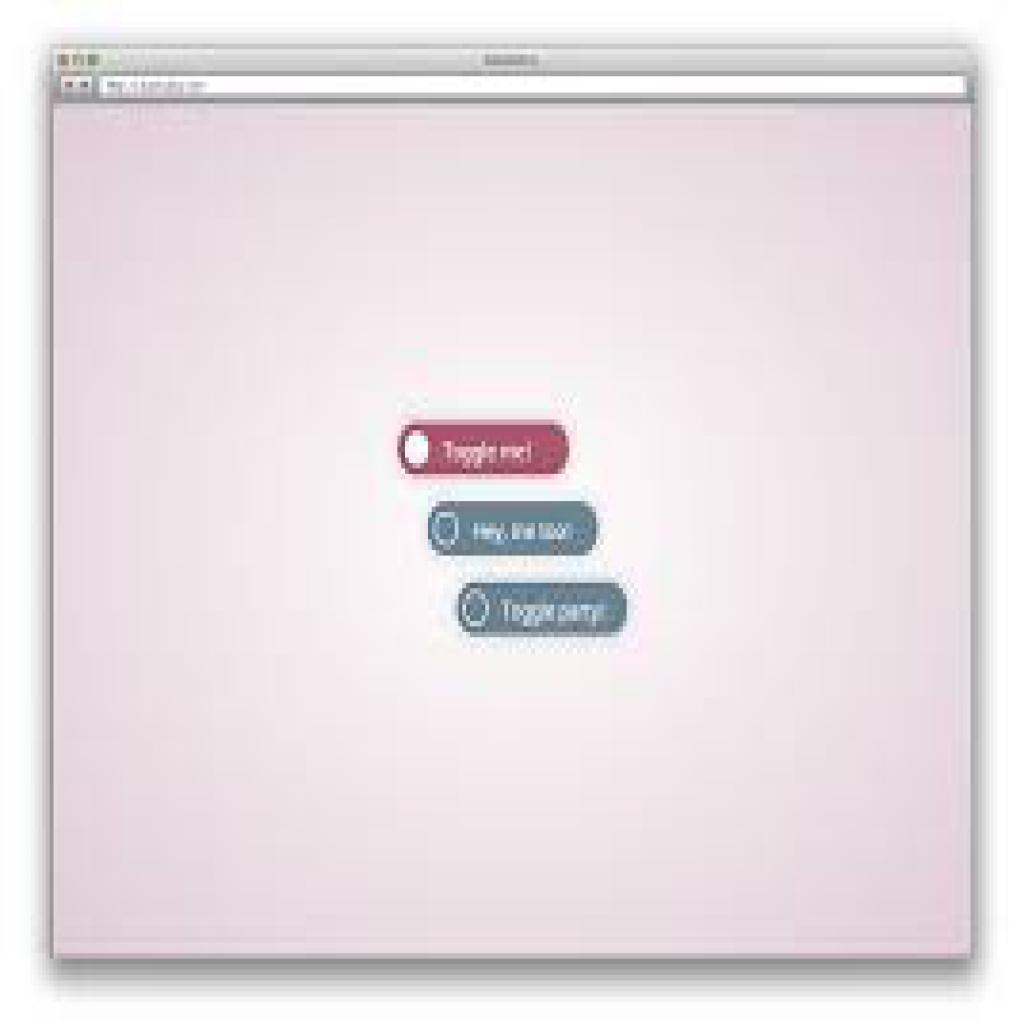radio: (461, 589, 493, 630), (433, 510, 461, 551), (403, 433, 431, 471)
